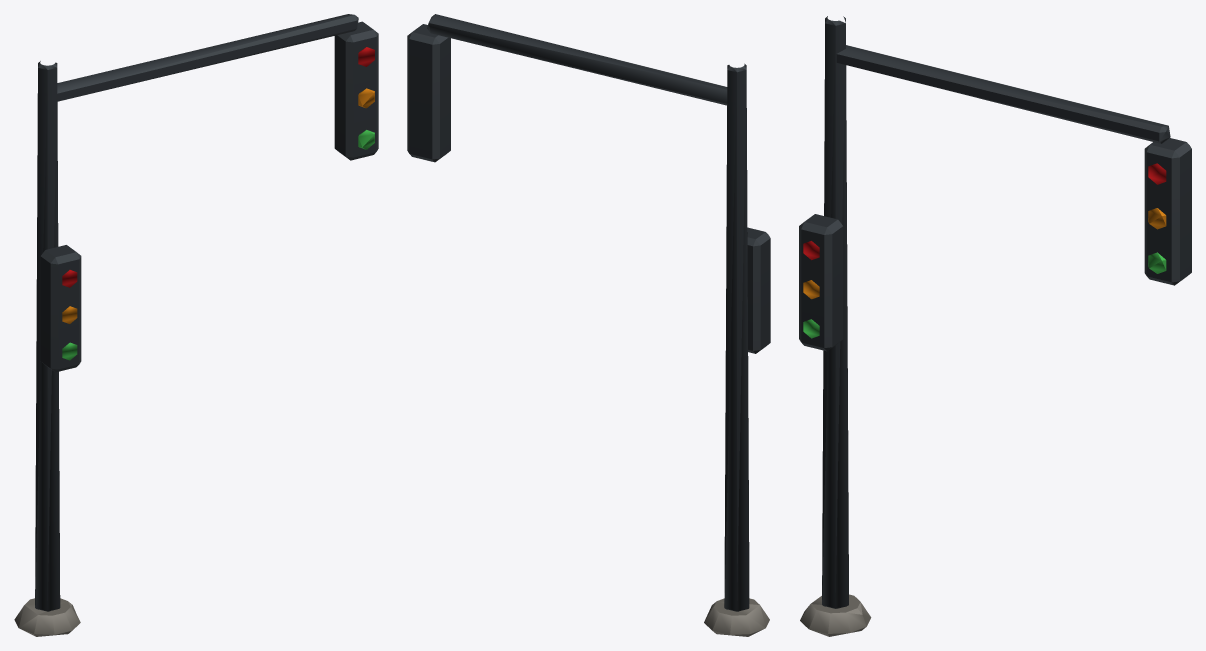
Rendered from traffic-light-v1.lod1.glb.
The picture shows the model from 3 angles, left to right: view 1: azimuth 30°, elevation 25°; view 2: azimuth 150°, elevation 25°; view 3: azimuth 330°, elevation 25°; orthographic projection. The views are drawn at different scales.
Visible parts, largest first — view 1: traffic-light-v1.lod1; view 2: traffic-light-v1.lod1; view 3: traffic-light-v1.lod1.
Boxes of the visible parts, box(x1,y1,x2,y2) form: traffic-light-v1.lod1: box(14, 14, 378, 636); traffic-light-v1.lod1: box(407, 14, 770, 636); traffic-light-v1.lod1: box(799, 16, 1191, 636).
Size of the model in its own units: 3.67 by 5.58 by 0.6853.
